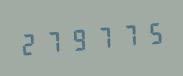five: (138, 16, 161, 49)
nine: (66, 22, 89, 56)
seven: (41, 24, 64, 58), (90, 20, 113, 54), (114, 18, 137, 51)
two: (17, 26, 40, 60)
